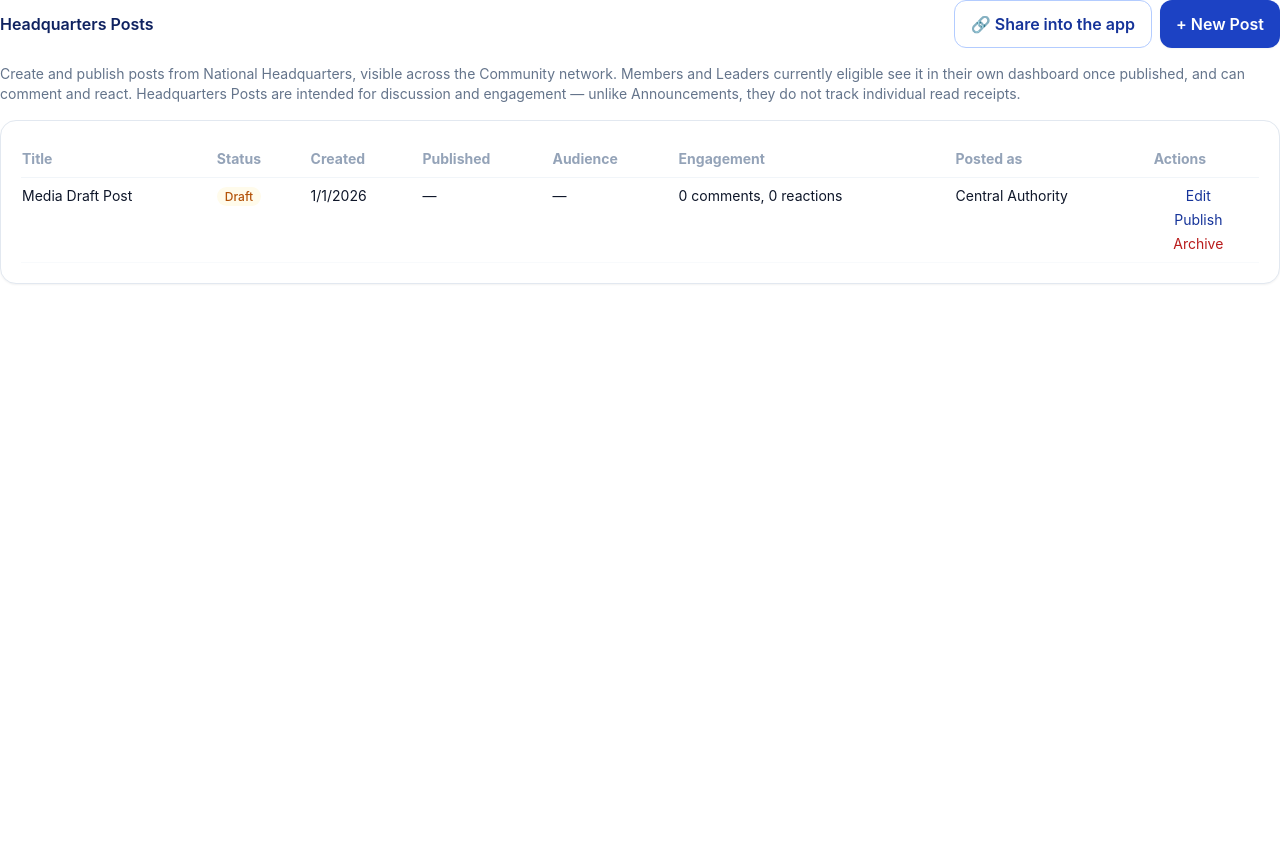
Test: HeadquartersPostsTab — media attachment › attaches an image and shows it as the current media
Later steps or results of the test are not shown.
Click the button "Edit".
click(1198, 196)  # box 1154,186 -> 1243,206
(page scrolled)
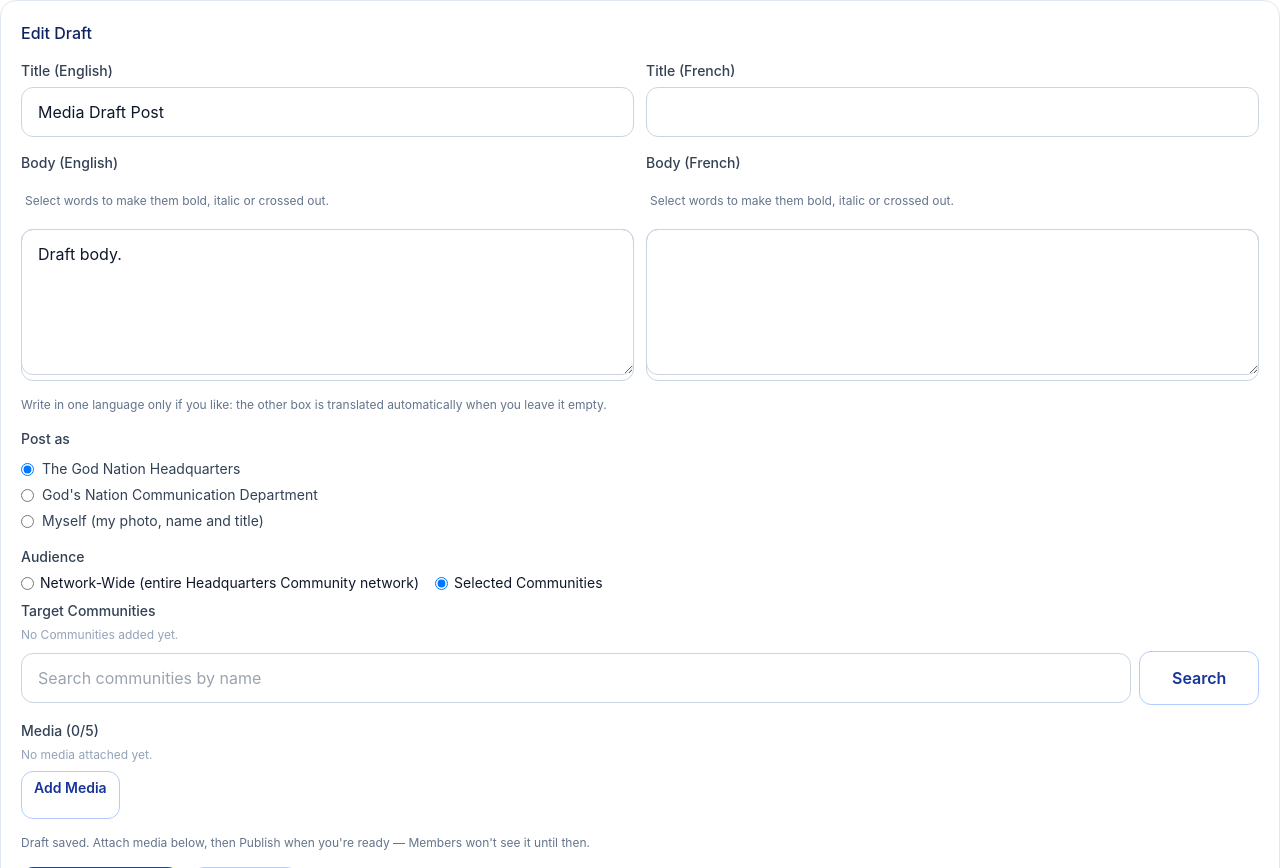
Expected: the text "No media attached yet." is shown, 21,747 -> 152,762
